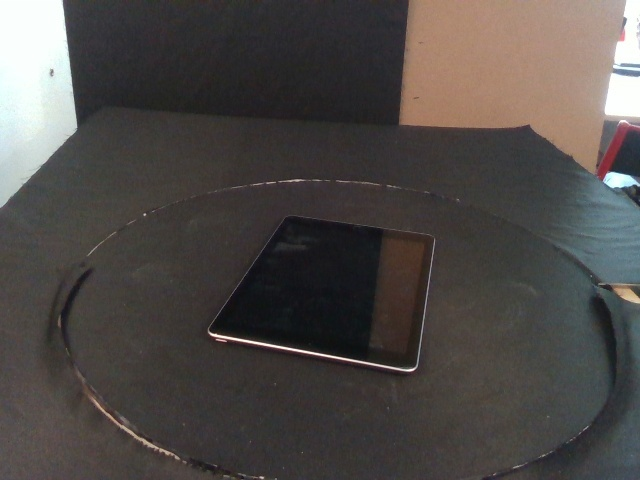laptop: (208, 215, 436, 377)
